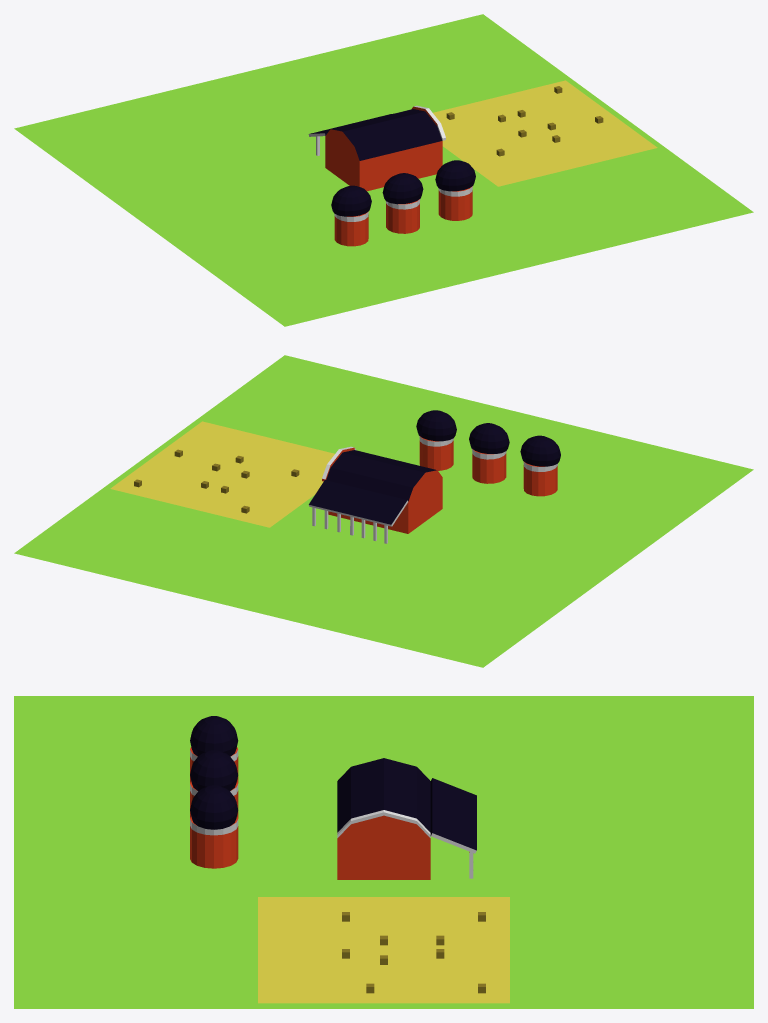
The model's file is farmthreejs.glb.
3 views of the same model, one above another, from view 1: azimuth 30°, elevation 25°; view 2: azimuth 150°, elevation 25°; view 3: azimuth 270°, elevation 25° (orthographic). The views are drawn at different scales.
Parts seen in each view (by area): view 1: Plan, Plan.002, FARM, Cylindre, Cylindre.002, Cylindre.001; view 2: Plan, Plan.002, FARM, Cylindre, Cylindre.001, Cylindre.002; view 3: Plan, Plan.002, FARM, Cylindre.002, Cylindre.001, Cylindre.
Boxes of the visible parts, box(x1,y1,x2,y2) form: Plan: box(14, 14, 753, 326); Plan.002: box(433, 80, 657, 186); FARM: box(308, 105, 445, 191); Cylindre: box(331, 185, 371, 246); Cylindre.002: box(435, 160, 475, 220); Cylindre.001: box(382, 173, 423, 233); Plan: box(14, 355, 753, 667); Plan.002: box(110, 421, 334, 527); FARM: box(308, 446, 442, 543); Cylindre: box(520, 435, 560, 496); Cylindre.001: box(469, 423, 509, 483); Cylindre.002: box(416, 410, 456, 470); Plan: box(14, 696, 753, 1008); Plan.002: box(258, 897, 509, 1003); FARM: box(337, 758, 476, 879); Cylindre.002: box(190, 785, 238, 868); Cylindre.001: box(190, 750, 238, 817); Cylindre: box(190, 716, 238, 782).
Size of the model in its own units: 30.66 by 3.71 by 30.66.
